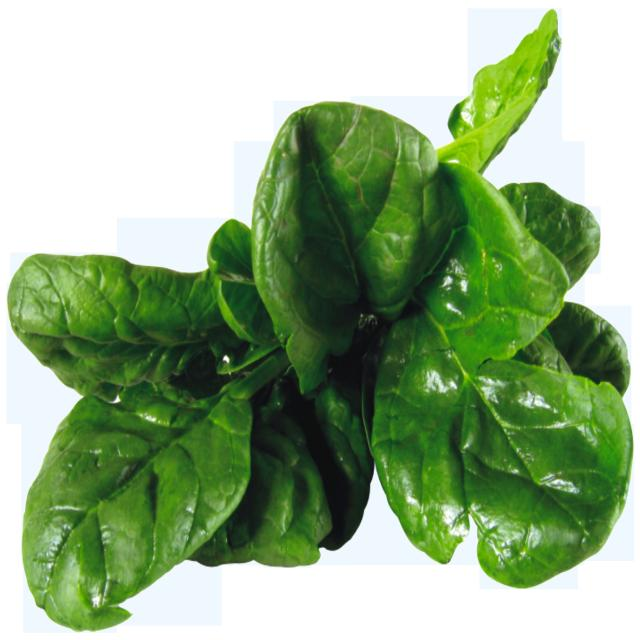Spinach bagged/loose: (376, 366, 636, 594), (256, 105, 434, 346), (22, 404, 195, 625), (8, 245, 194, 382)
